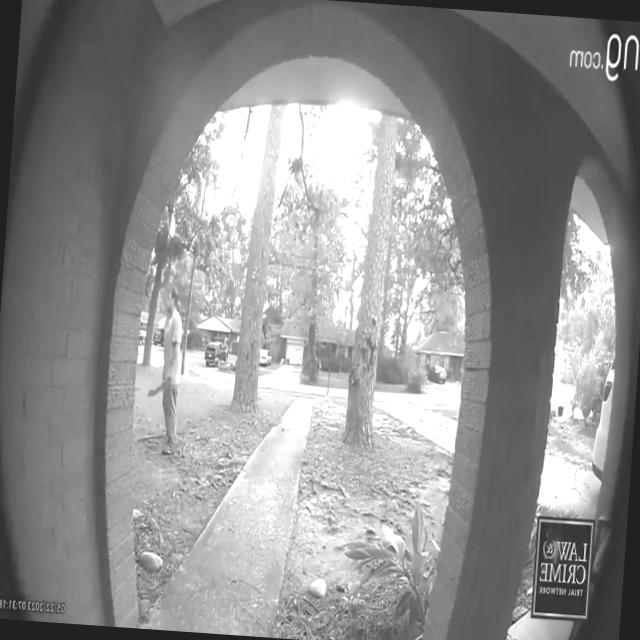weapon: (136, 274, 202, 474)
